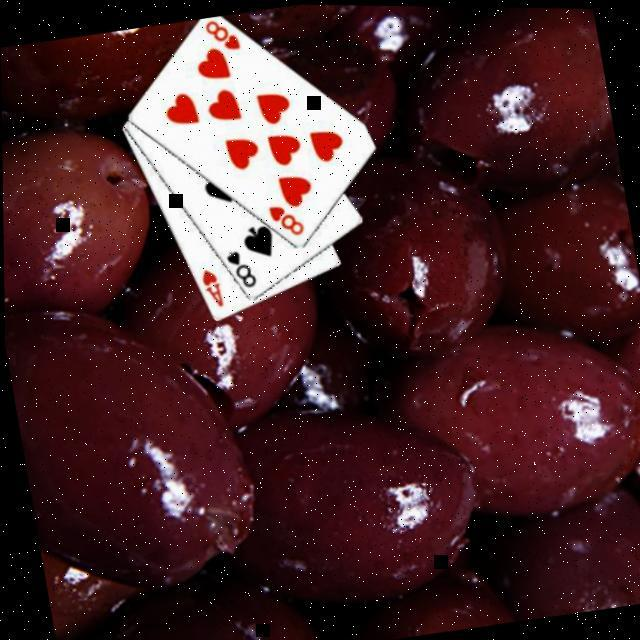8H: (202, 13, 246, 58), (266, 198, 310, 242)
8S: (223, 246, 262, 294)
AH: (198, 266, 228, 312)
